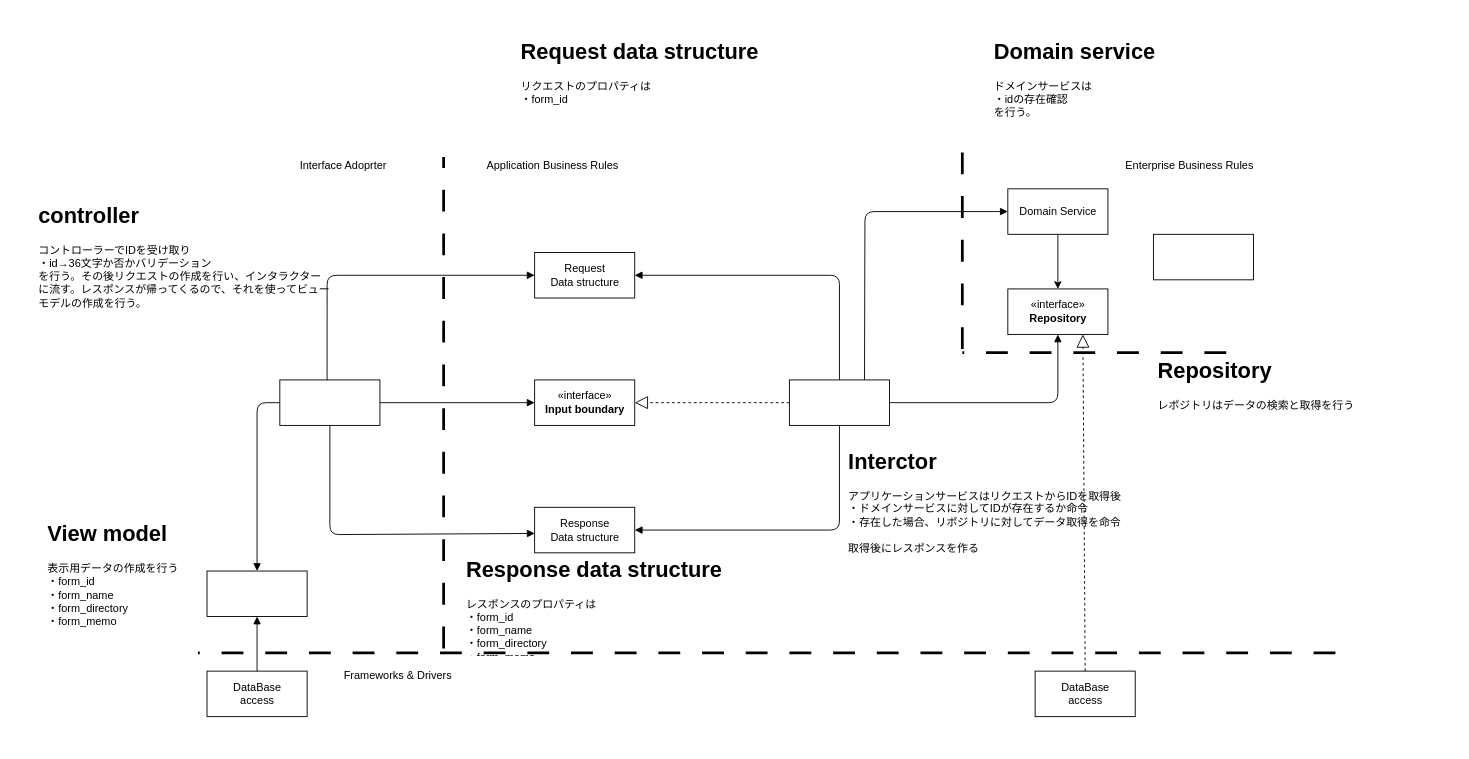
This 1469x759 diagram has some shape labels left out. Each missing label, with the box of its shape:
Controller: (279, 379, 380, 425)
Entities: (1153, 233, 1254, 280)
ViewModel Data structure: (206, 570, 307, 617)
«interface» Edit UseCase: (789, 379, 890, 425)
